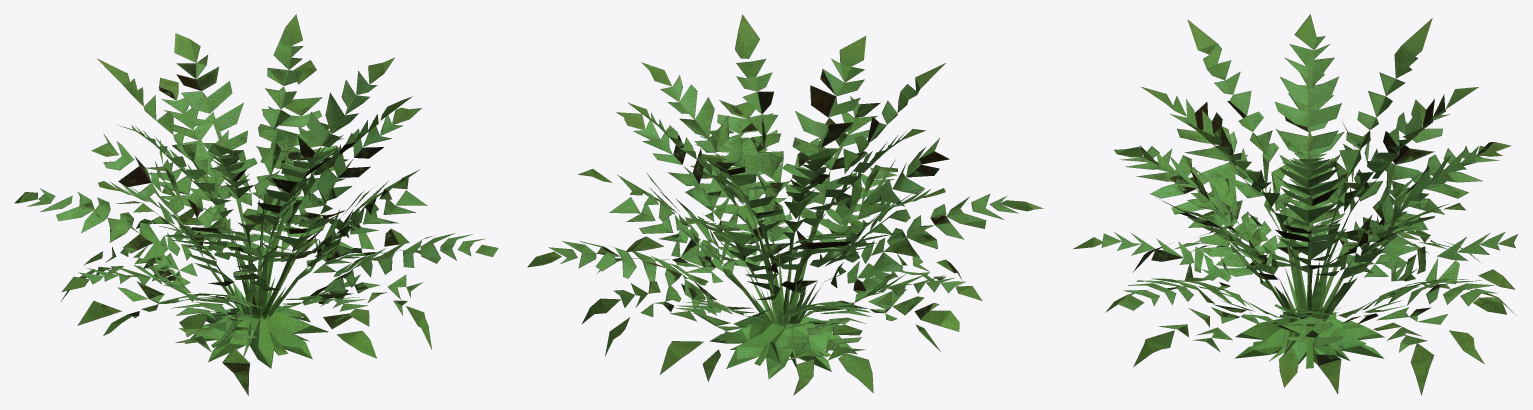
File: Fern.glb
3 views of the same model, side by side, from view 1: azimuth 30°, elevation 25°; view 2: azimuth 150°, elevation 25°; view 3: azimuth 270°, elevation 25° (orthographic). The views are drawn at different scales.
Size of the model in its own units: 1.17 by 0.8 by 1.16.
1 material, 1 textured.
